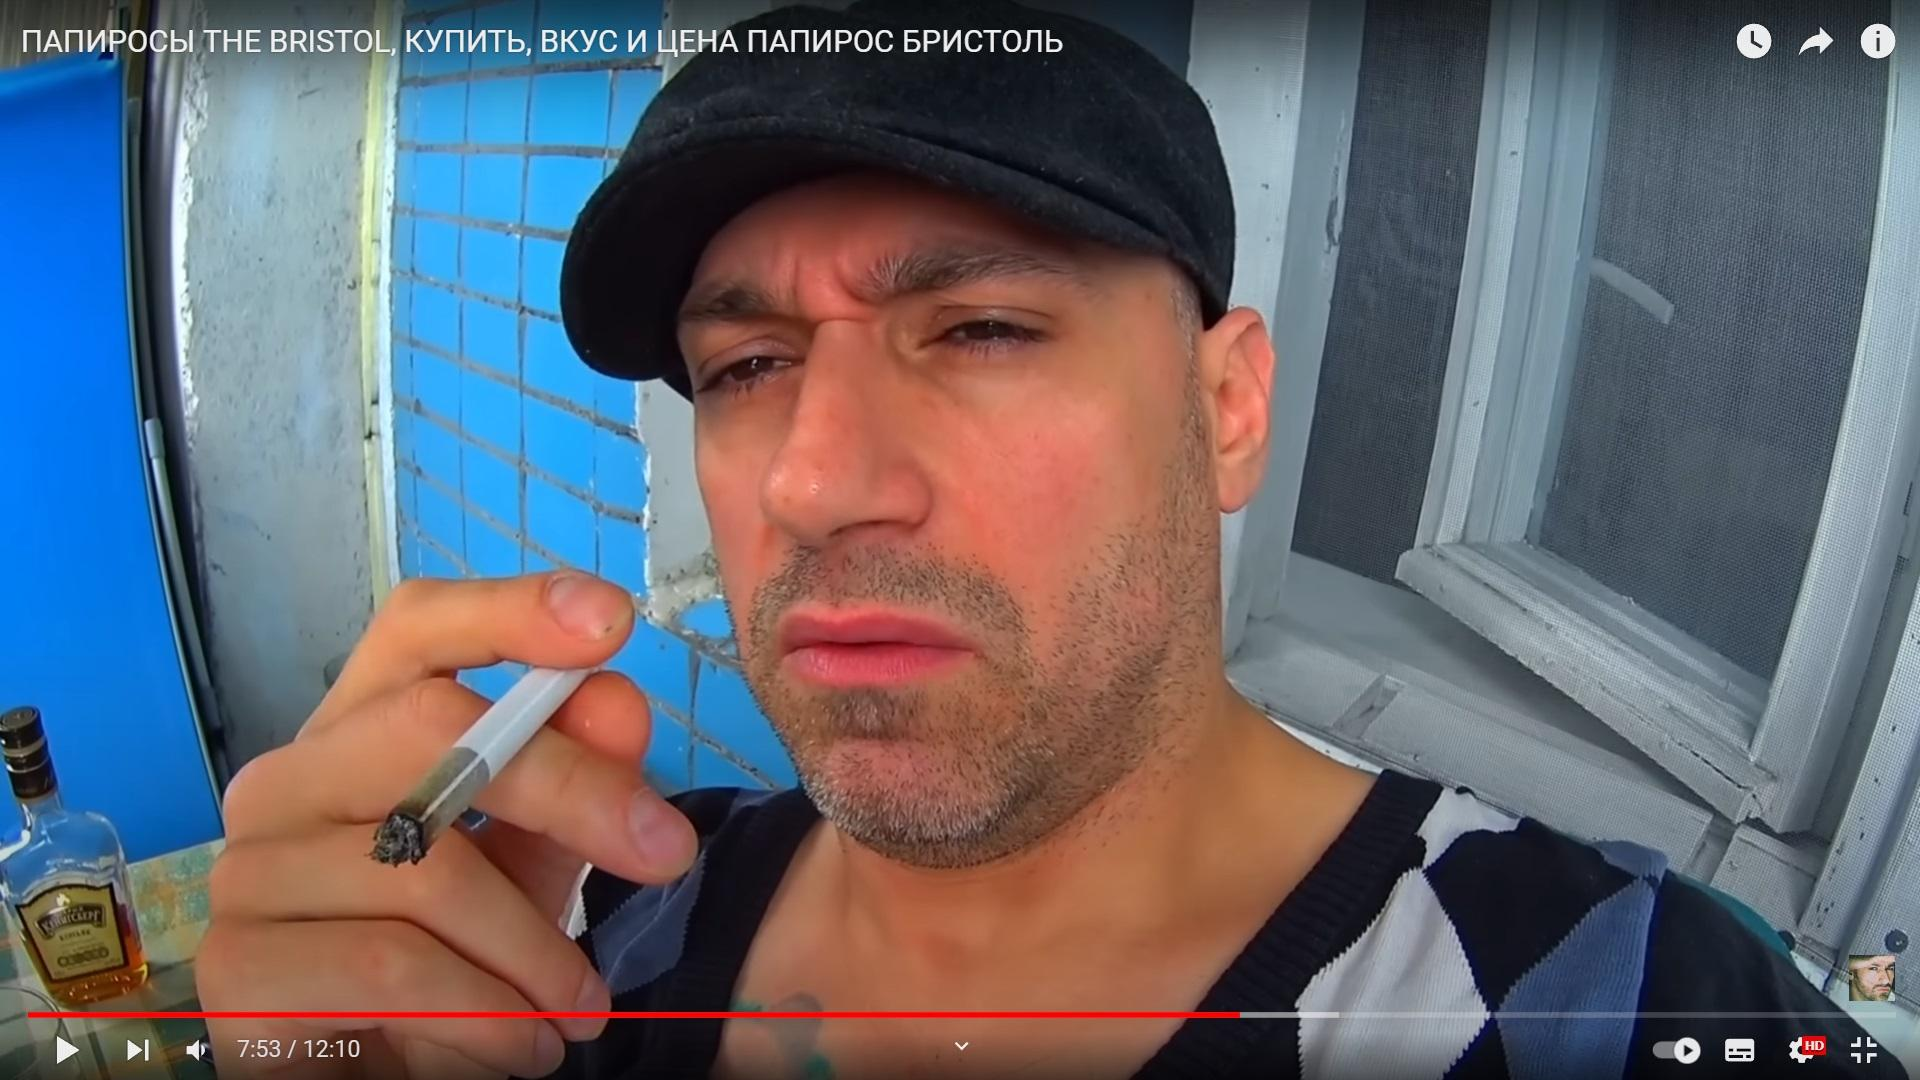cigarette: (369, 663, 596, 866)
